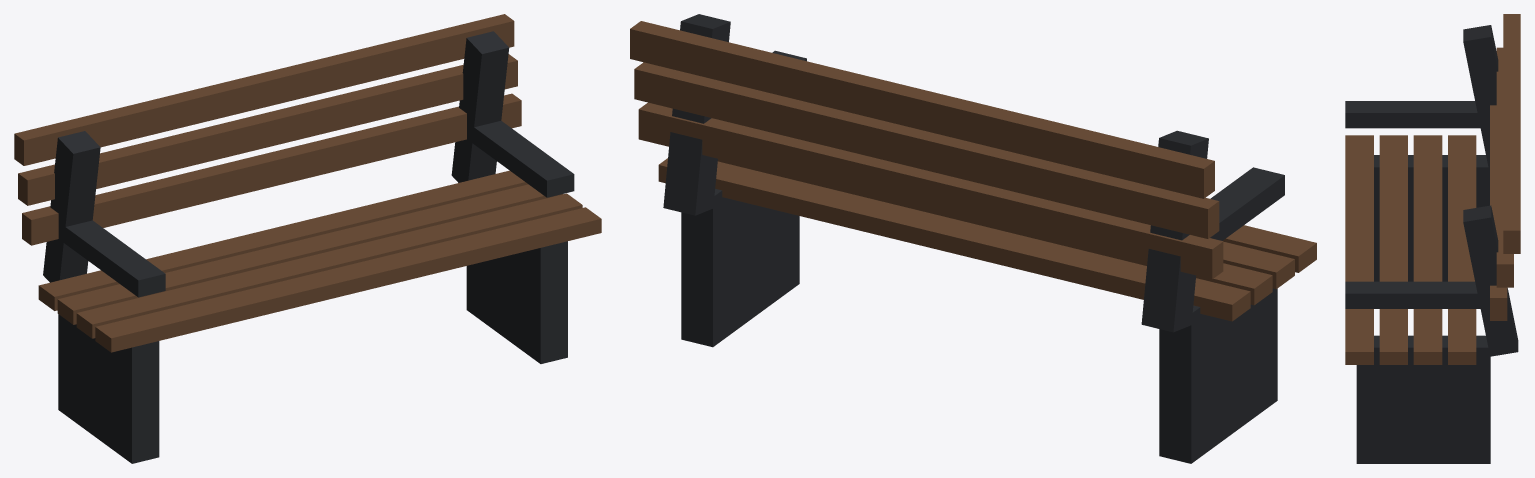
Rendered from cp_bench.glb.
The picture shows the model from 3 angles, left to right: view 1: azimuth 30°, elevation 25°; view 2: azimuth 150°, elevation 25°; view 3: azimuth 270°, elevation 25°; orthographic projection. The views are drawn at different scales.
Visible parts, largest first — view 1: city_cp_bench; view 2: city_cp_bench; view 3: city_cp_bench.
Boxes of the visible parts, x1=… form: city_cp_bench: x1=14, y1=14, x2=601, y2=463; city_cp_bench: x1=630, y1=14, x2=1316, y2=463; city_cp_bench: x1=1345, y1=14, x2=1520, y2=463.
Size of the model in its own units: 1.8 by 0.9547 by 0.6148.
1 material, 1 textured.
